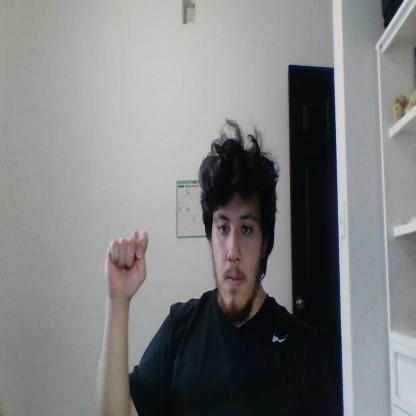T: (104, 230, 149, 298)
